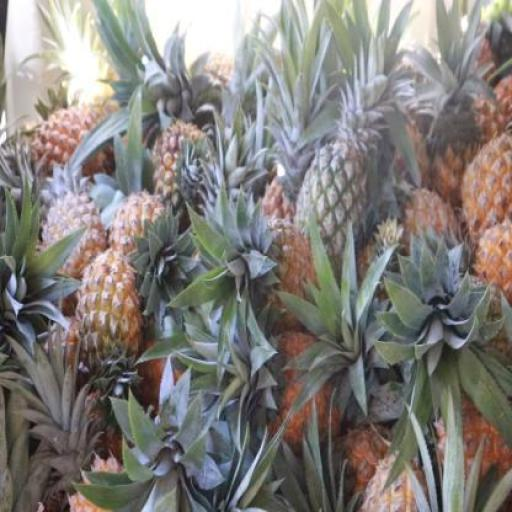Pineapple - v8 v1: (78, 255, 140, 381)
